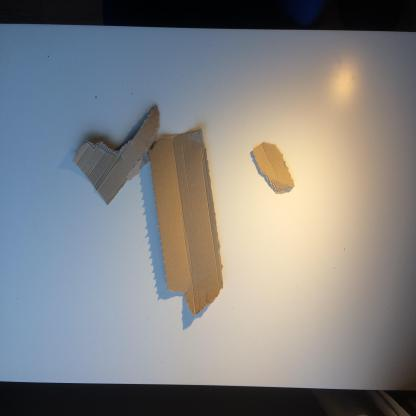Corrugated carton: (149, 128, 223, 316), (72, 105, 160, 205), (252, 142, 295, 195)
